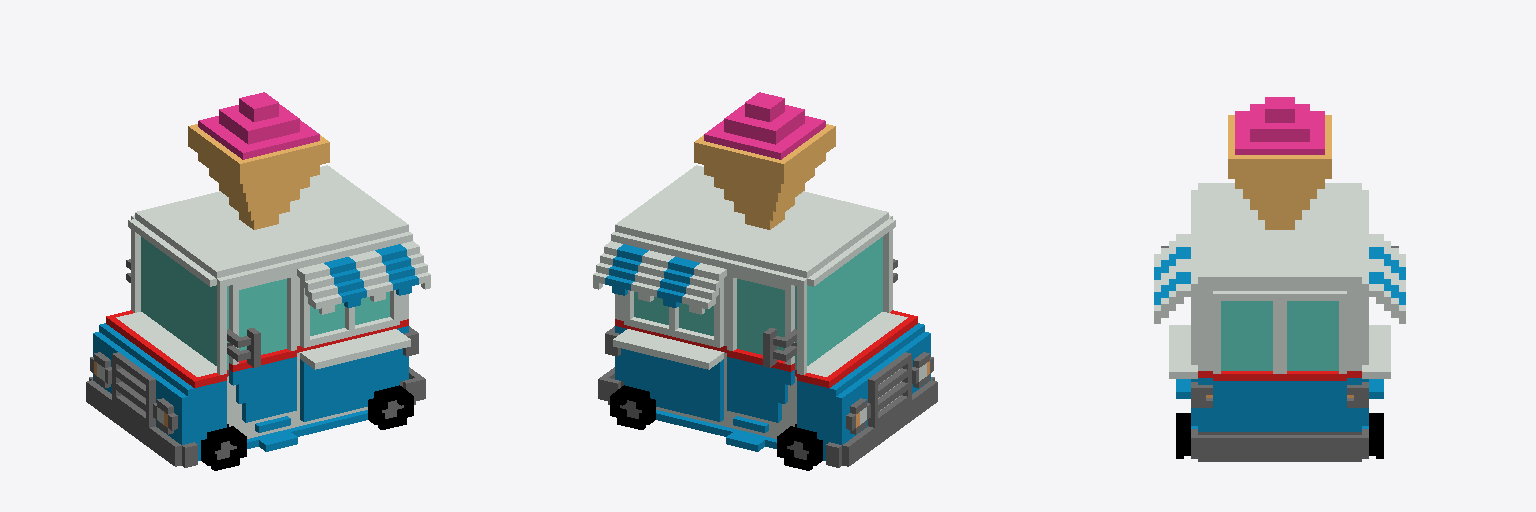
The picture shows the model from 3 angles: view 1: azimuth 30°, elevation 25°; view 2: azimuth 150°, elevation 25°; view 3: azimuth 270°, elevation 25°; orthographic projection.
Visible parts, largest first — view 1: object 1; view 2: object 1; view 3: object 1.
Part boxes in pixels (left/top/right/bottom): object 1: left=86, top=92, right=430, bottom=470; object 1: left=593, top=92, right=937, bottom=470; object 1: left=1154, top=97, right=1405, bottom=461.
Size of the model in its own units: 3.9 by 4.6 by 3.4.
1 materials, 1 textured.